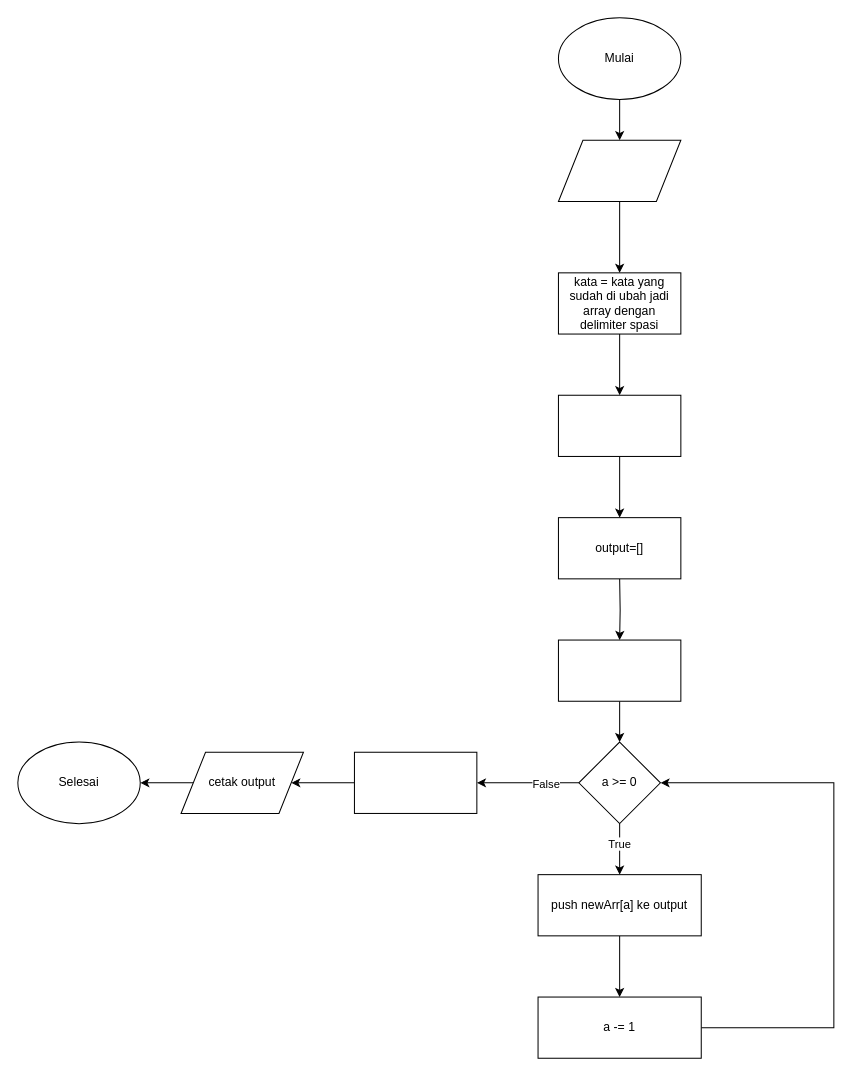
Some shapes in this 860 by 1076 pixel diagram are drawn without their labels. The shapes that lost their labels are listed below. From the top down, each one's centre as x and y in pixels, then its label:
At point 619,170: "input kata".
At point 619,425: "newArr = kata".
At point 619,670: "a = newArr.length - 1".
At point 415,782: "join output dengan delimiter ' ' / spasi".
